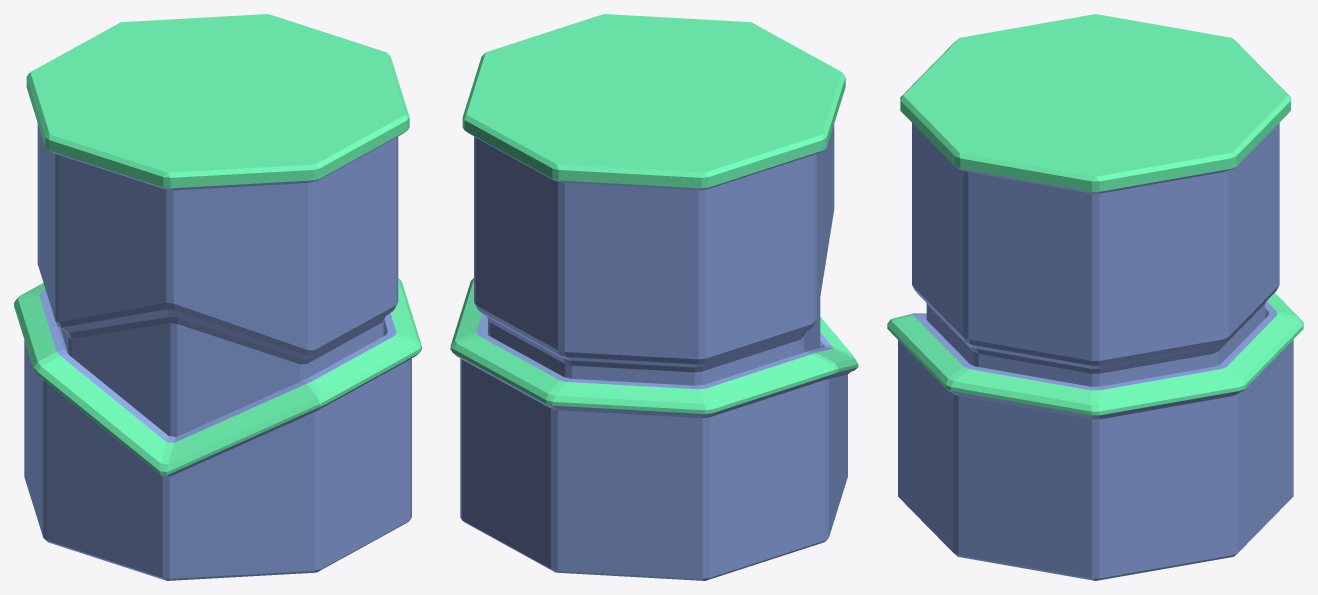
File: Rock 3.fbx
3 views of the same model, side by side, from view 1: azimuth 30°, elevation 25°; view 2: azimuth 150°, elevation 25°; view 3: azimuth 270°, elevation 25° (orthographic).
Parts seen in each view (by area): view 1: Rock 3; view 2: Rock 3; view 3: Rock 3.
Part boxes in pixels (bbox=[...]): Rock 3: bbox=[14, 14, 421, 580]; Rock 3: bbox=[450, 14, 858, 580]; Rock 3: bbox=[887, 14, 1303, 580].
Bounding box in the file's own units: 209 × 223 × 209.
